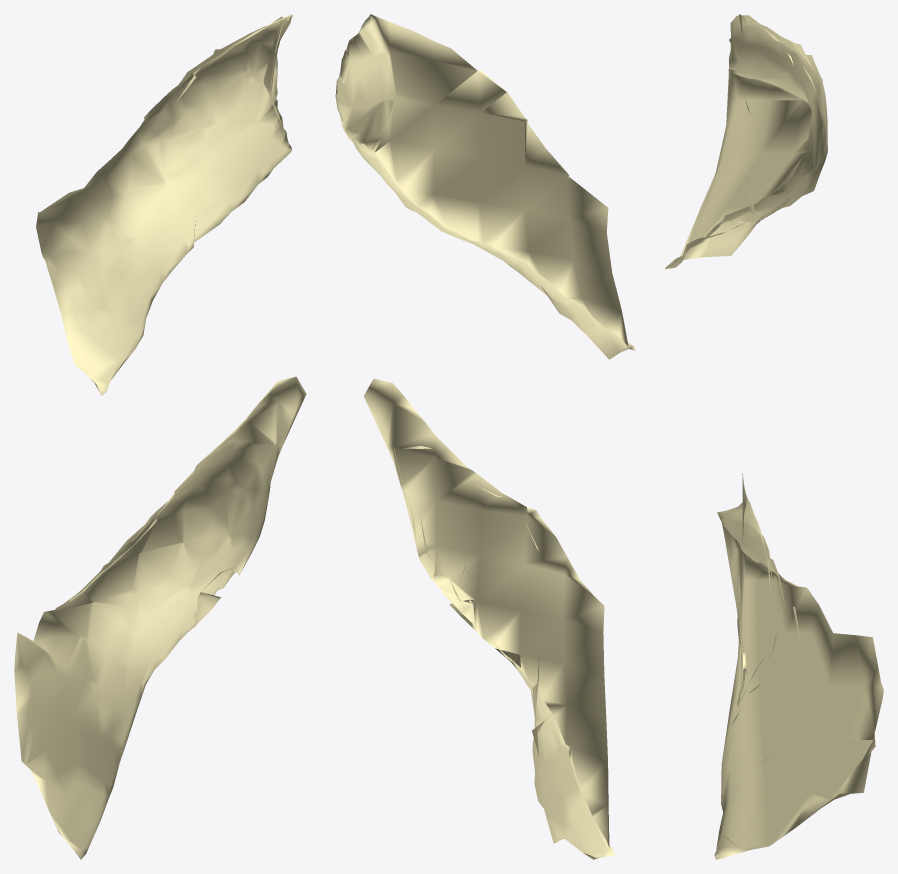
The model's file is Ptbn2j3.gltf.
3 renders of one model, left to right at view 1: azimuth 30°, elevation 25°; view 2: azimuth 150°, elevation 25°; view 3: azimuth 270°, elevation 25°, orthographic. The views are drawn at different scales.
Visible parts, largest first — view 1: Switch_Switch_osgPicked_gmeGeoEntityGeode_Geometry_0, Switch_Switch_osgPicked_gmeGeoEntityGeode_Geometry_Geometry_; view 2: Switch_Switch_osgPicked_gmeGeoEntityGeode_Geometry_Geometry_, Switch_Switch_osgPicked_gmeGeoEntityGeode_Geometry_0; view 3: Switch_Switch_osgPicked_gmeGeoEntityGeode_Geometry_0, Switch_Switch_osgPicked_gmeGeoEntityGeode_Geometry_Geometry_.
Part boxes in pixels (x1,y1,x2,y2): Switch_Switch_osgPicked_gmeGeoEntityGeode_Geometry_0: (14, 376, 306, 859); Switch_Switch_osgPicked_gmeGeoEntityGeode_Geometry_Geometry_: (36, 14, 292, 395); Switch_Switch_osgPicked_gmeGeoEntityGeode_Geometry_Geometry_: (335, 14, 635, 359); Switch_Switch_osgPicked_gmeGeoEntityGeode_Geometry_0: (363, 378, 615, 859); Switch_Switch_osgPicked_gmeGeoEntityGeode_Geometry_0: (714, 473, 883, 859); Switch_Switch_osgPicked_gmeGeoEntityGeode_Geometry_Geometry_: (665, 14, 827, 269).
Size of what is drawn, in the model's own units: 2850 by 8990 by 1856.
